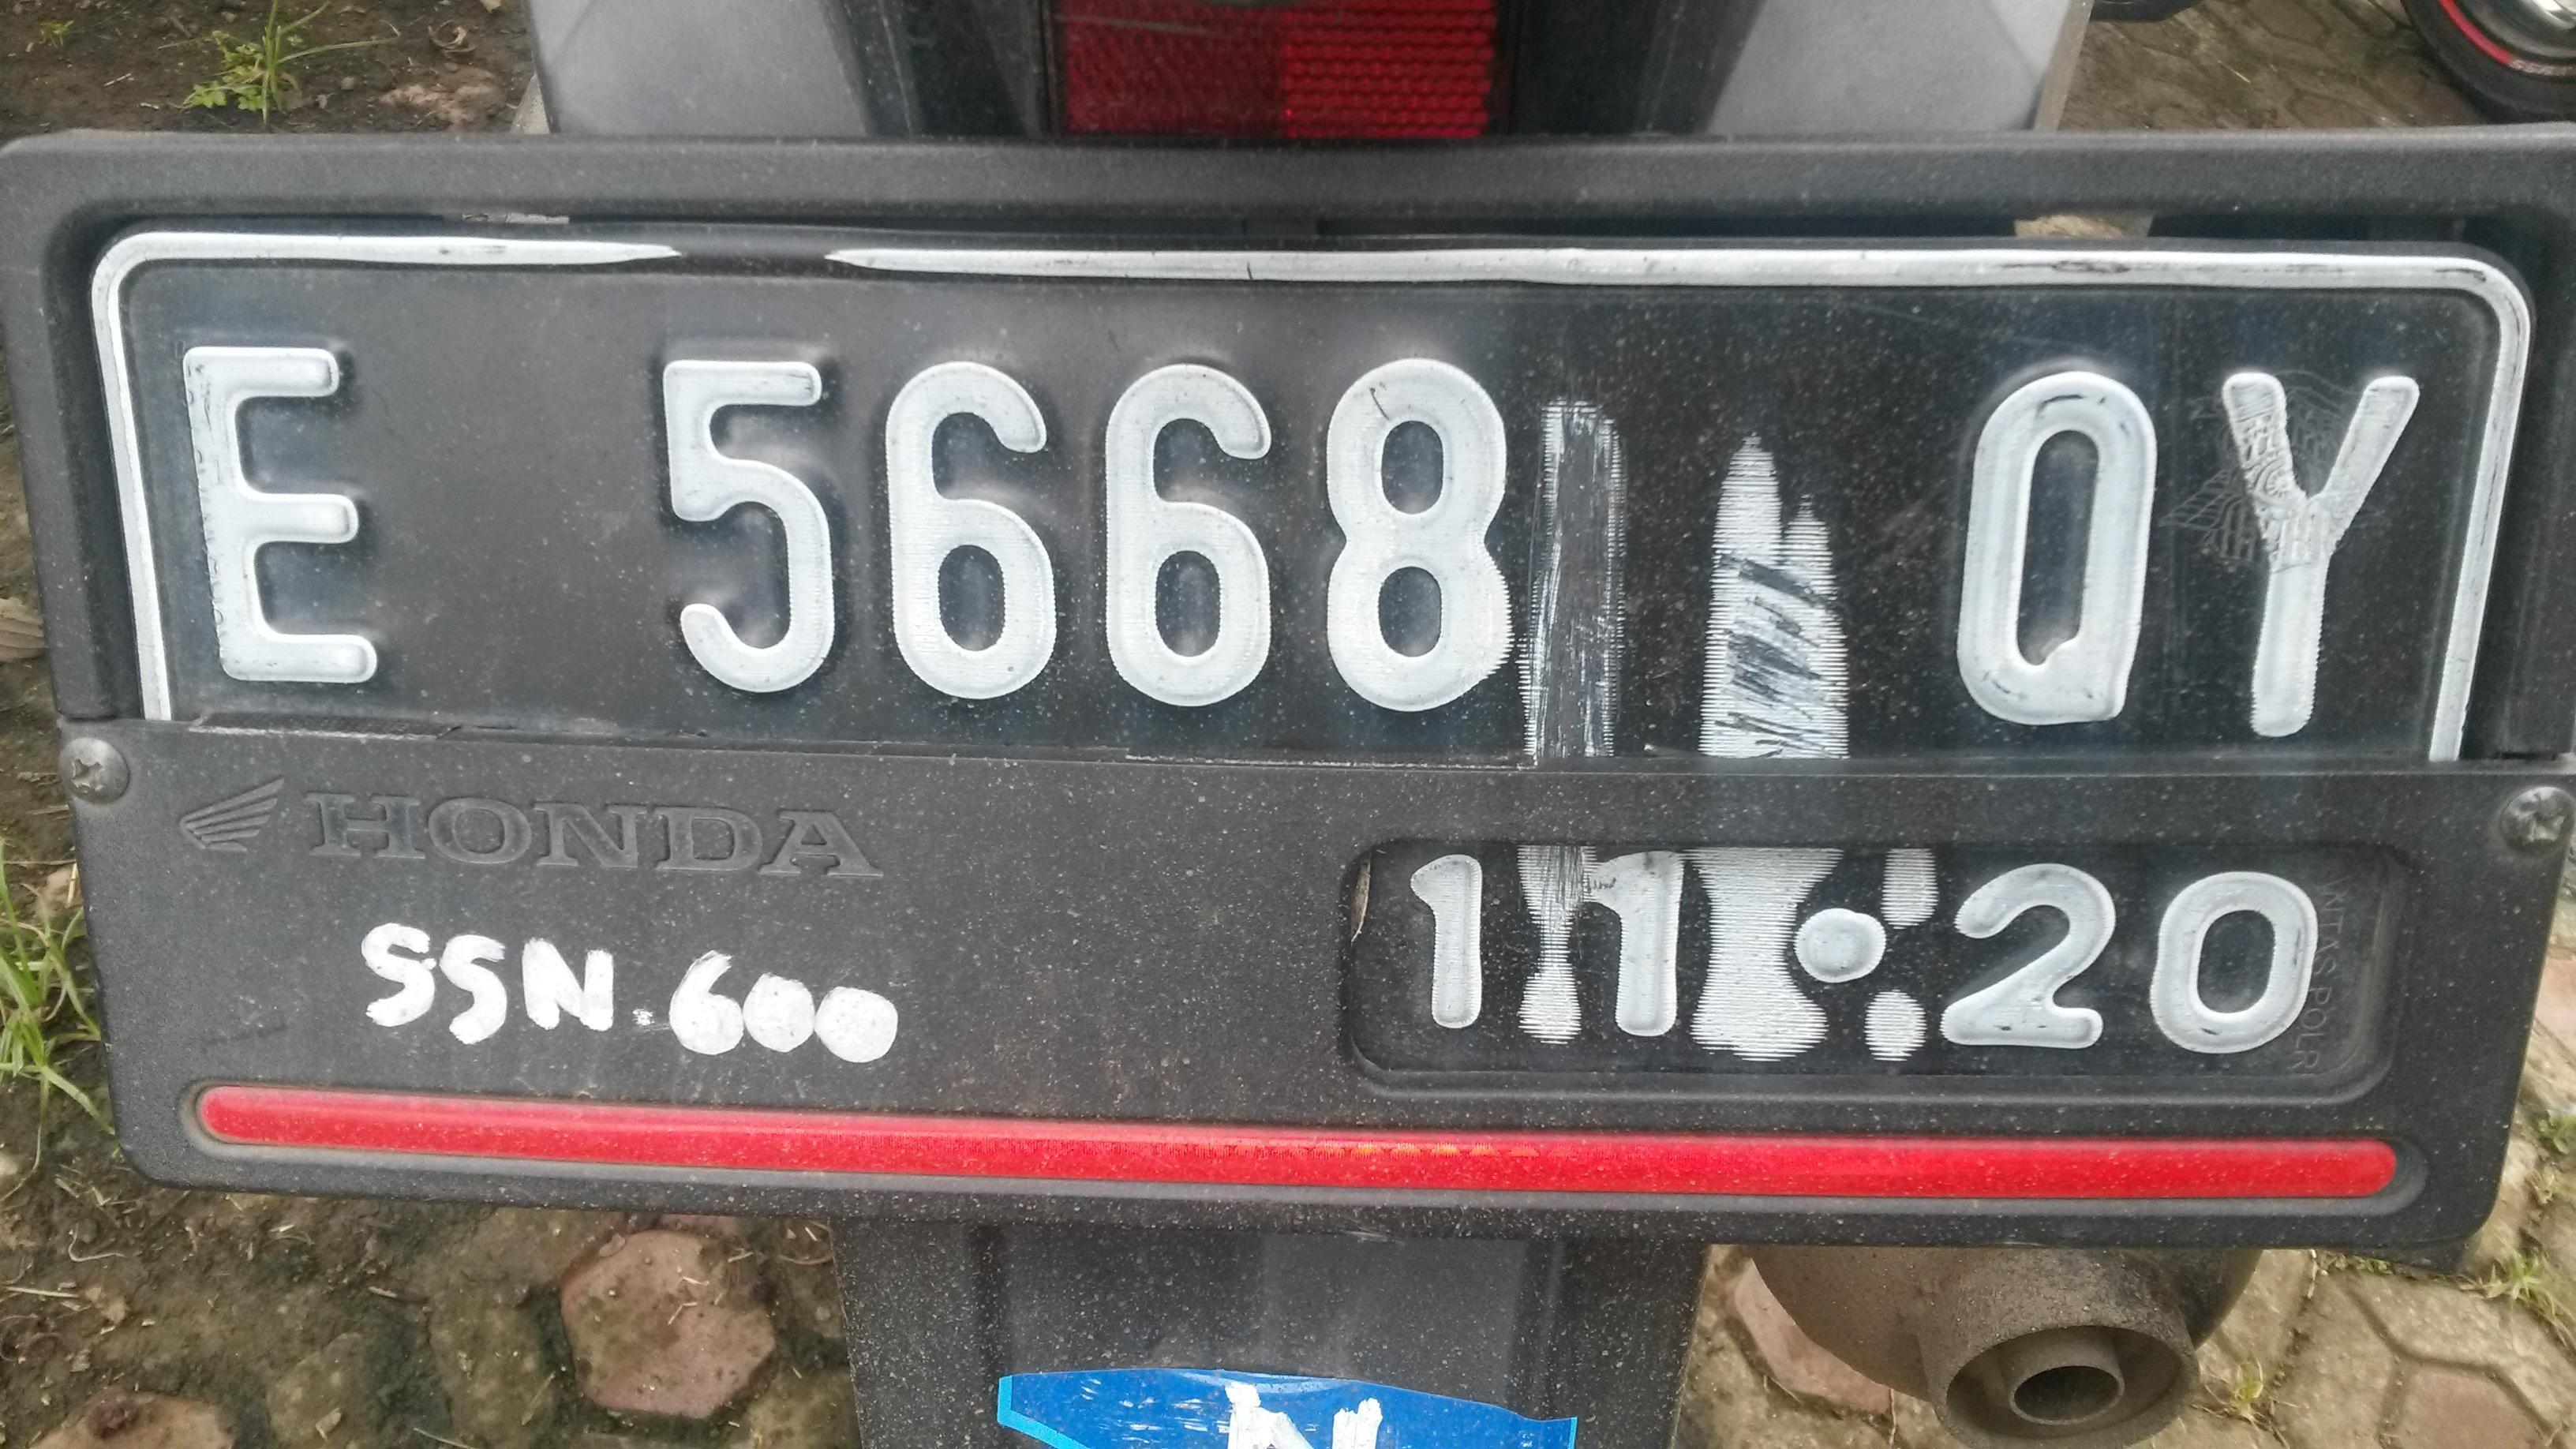clone-license-plate: (93, 219, 2536, 1106)
